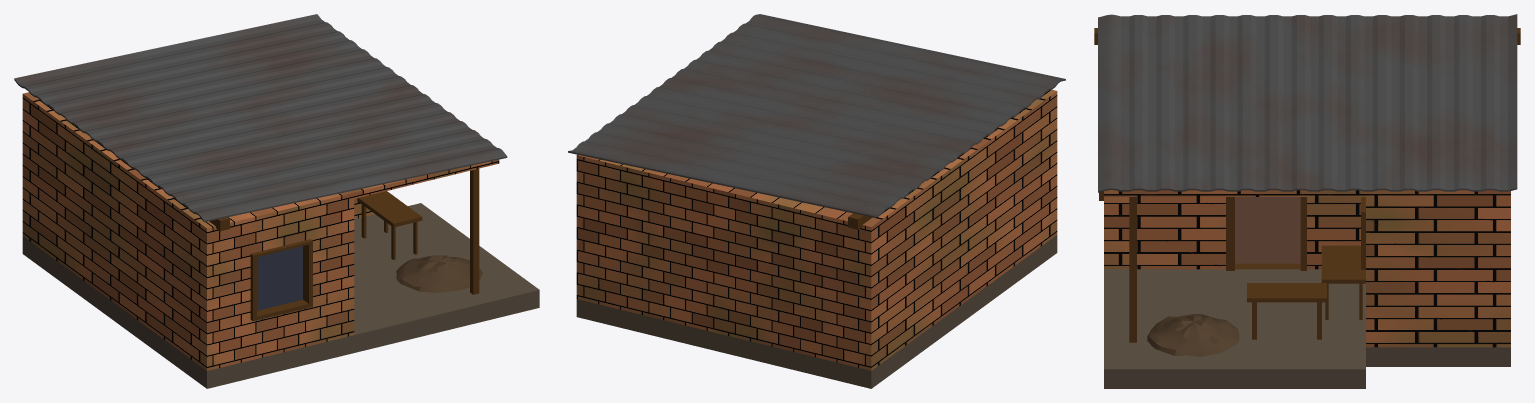
Rendered from House.fbx.
The picture shows the model from 3 angles, left to right: view 1: azimuth 30°, elevation 25°; view 2: azimuth 150°, elevation 25°; view 3: azimuth 270°, elevation 25°; orthographic projection. The views are drawn at different scales.
Parts seen in each view (by area): view 1: House; view 2: House; view 3: House.
Boxes of the visible parts, x1,y1,x2,y2 form: House: (14, 14, 539, 388); House: (568, 14, 1065, 388); House: (1094, 14, 1520, 388).
Bounding box in the file's own units: 168 × 82.83 × 166.
7 materials, 2 textured.
